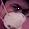with_mask: (1, 2, 29, 29)
